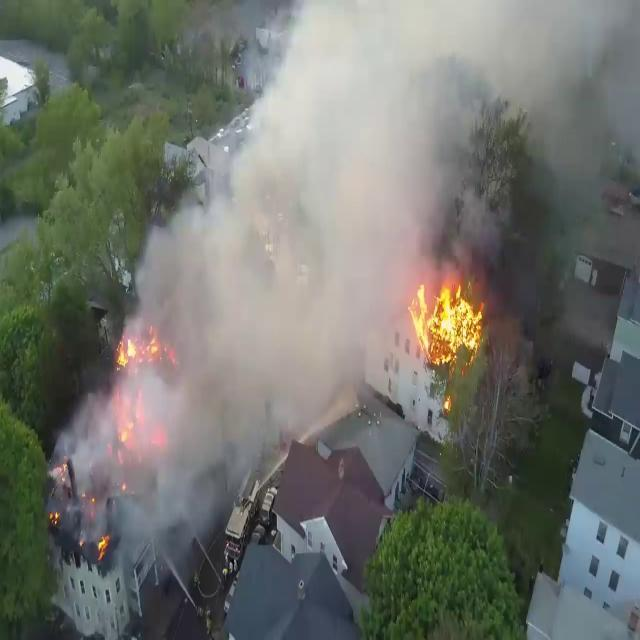Fire: (404, 269, 488, 369), (116, 327, 162, 371), (96, 530, 110, 565)
Smoke: (74, 2, 640, 513)
